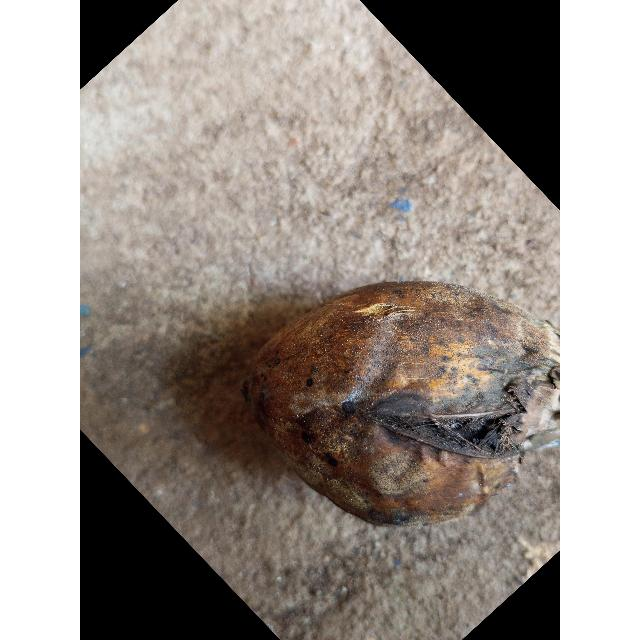damaged: (240, 280, 560, 530)
